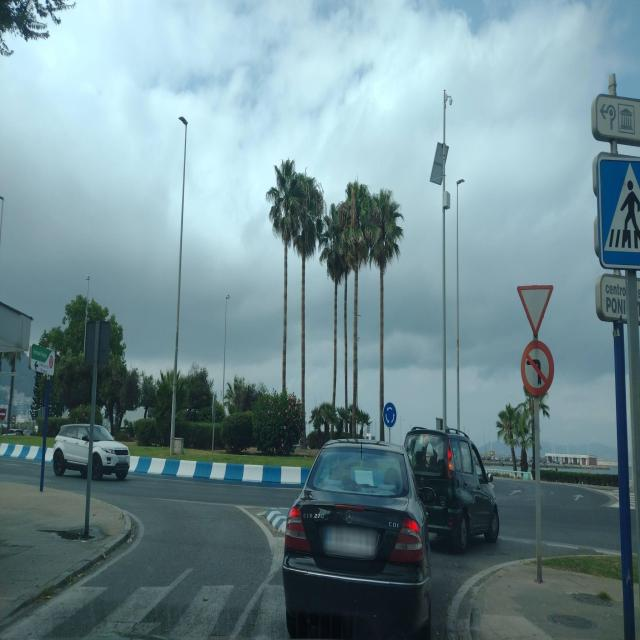car: (282, 434, 433, 637), (402, 421, 500, 552), (51, 422, 130, 482), (1, 426, 25, 436)
